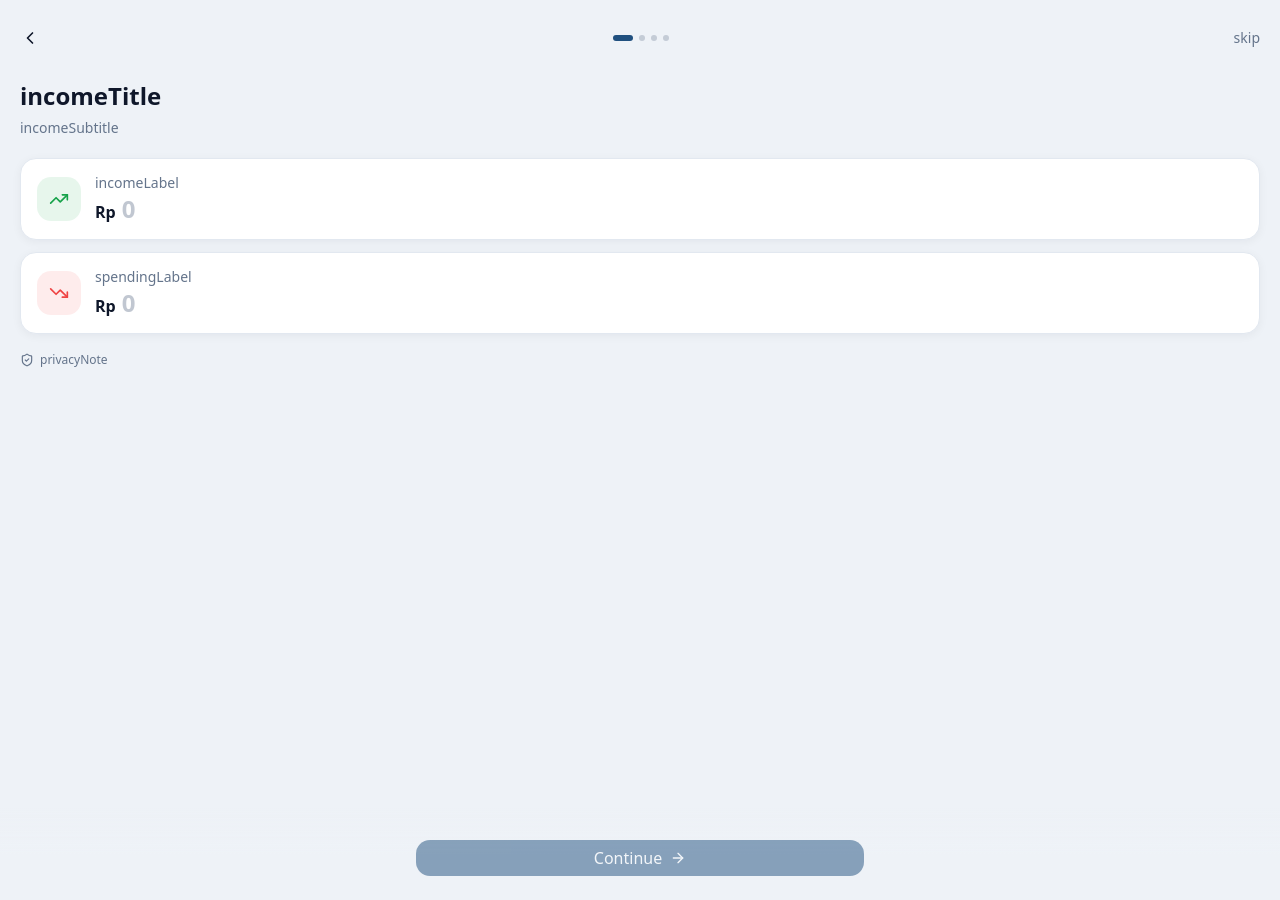
Scenario: HealthCheckPage (multi-step) › walks through all steps and renders the score gauge
Type "10000000" into the field with test id "hc-income" at [682, 209], box [122,193,1243,225]
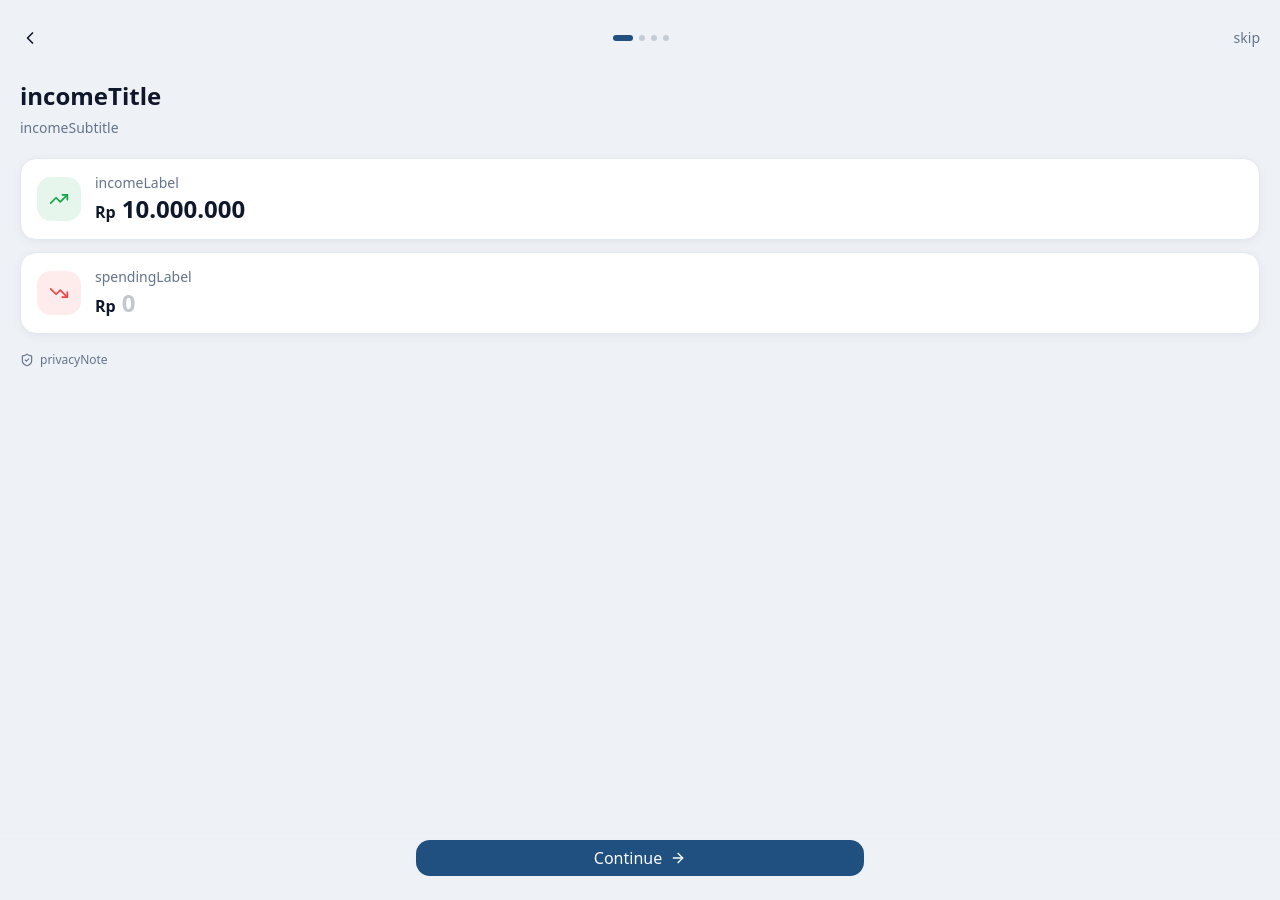
Type "6000000" into the field with test id "hc-spending" at [682, 303], box [122,287,1243,319]
Click the button "Continue" at [640, 858], box [416,840,864,876]
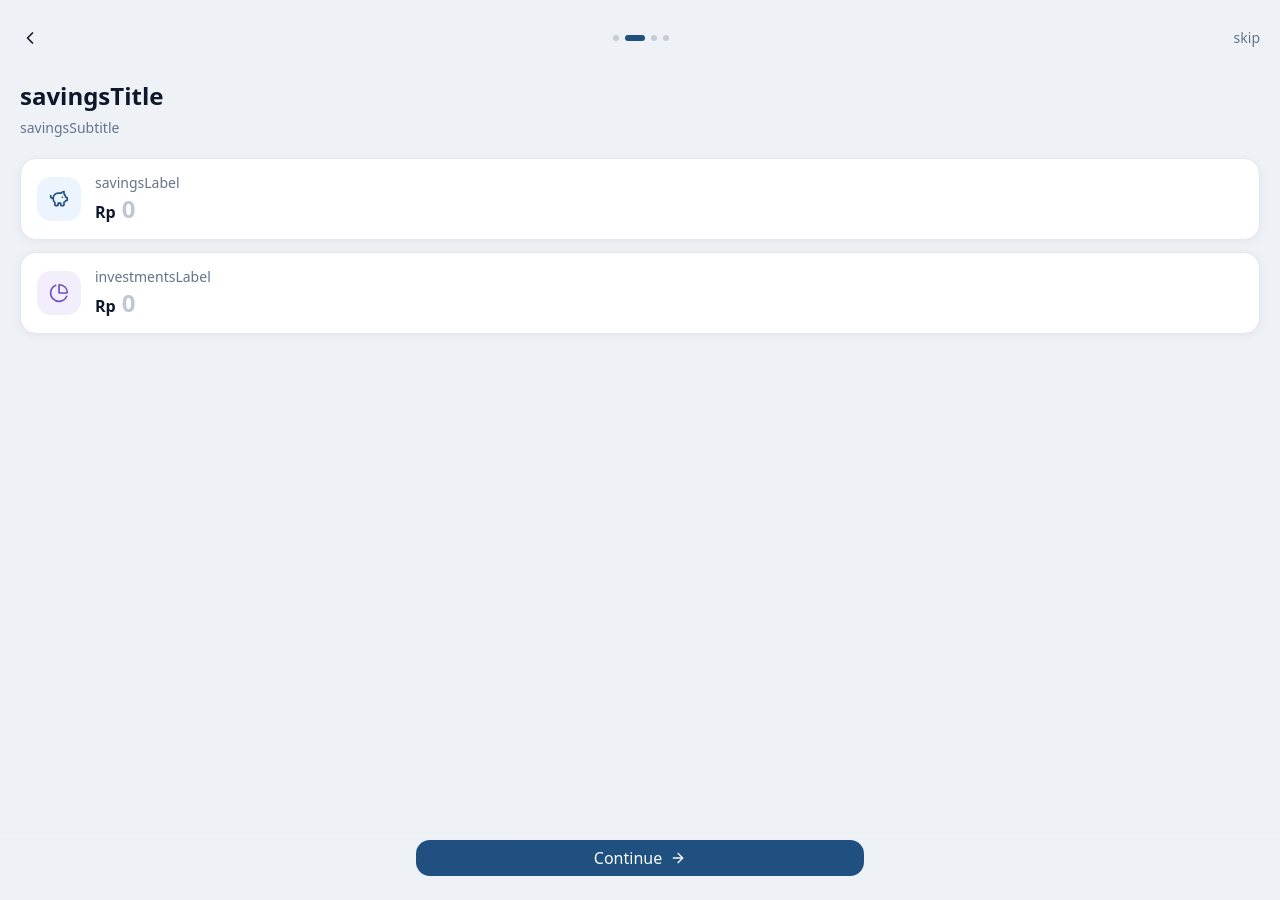
Type "30000000" into the field with test id "hc-savings" at [682, 209], box [122,193,1243,225]
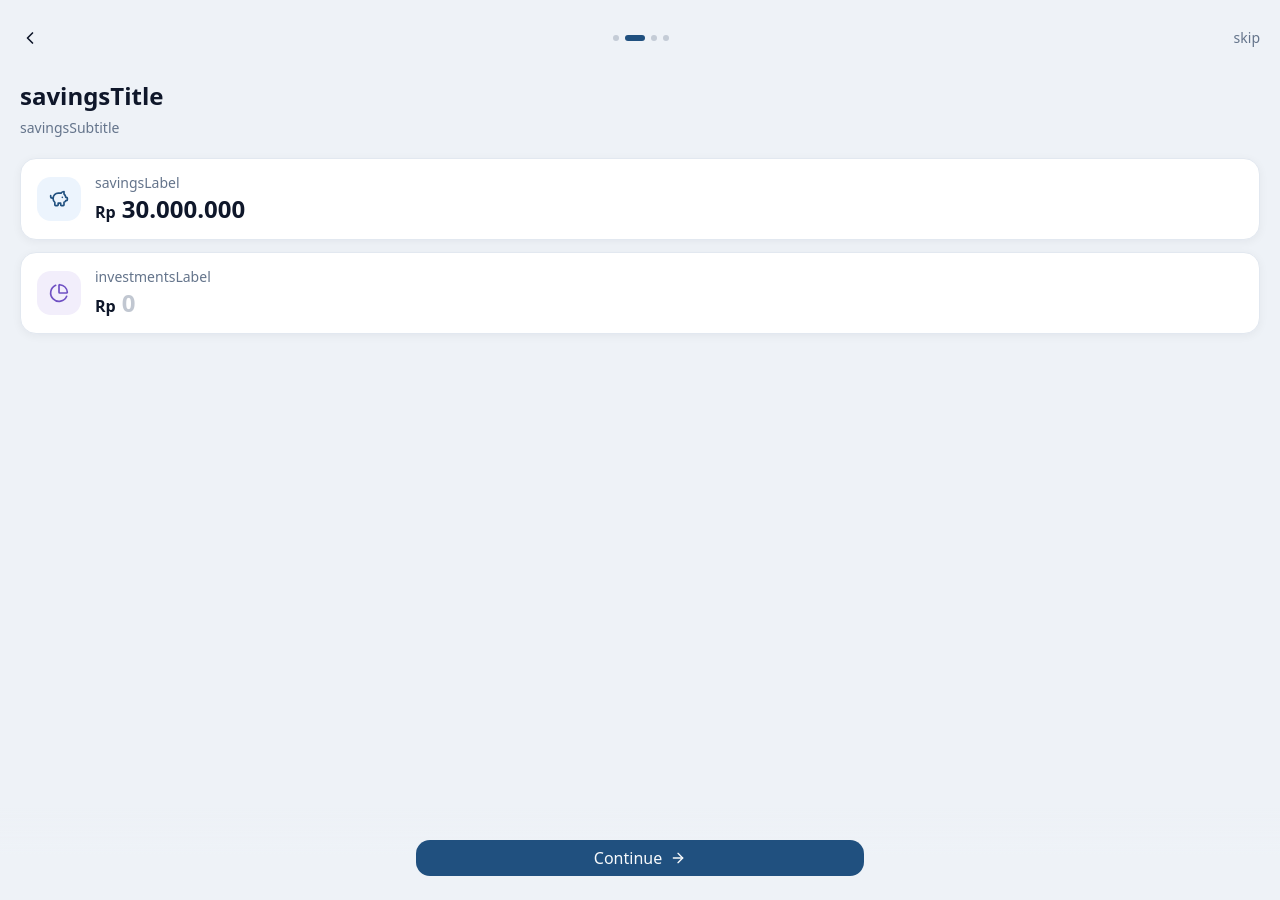
Type "20000000" into the field with test id "hc-investments" at [682, 303], box [122,287,1243,319]
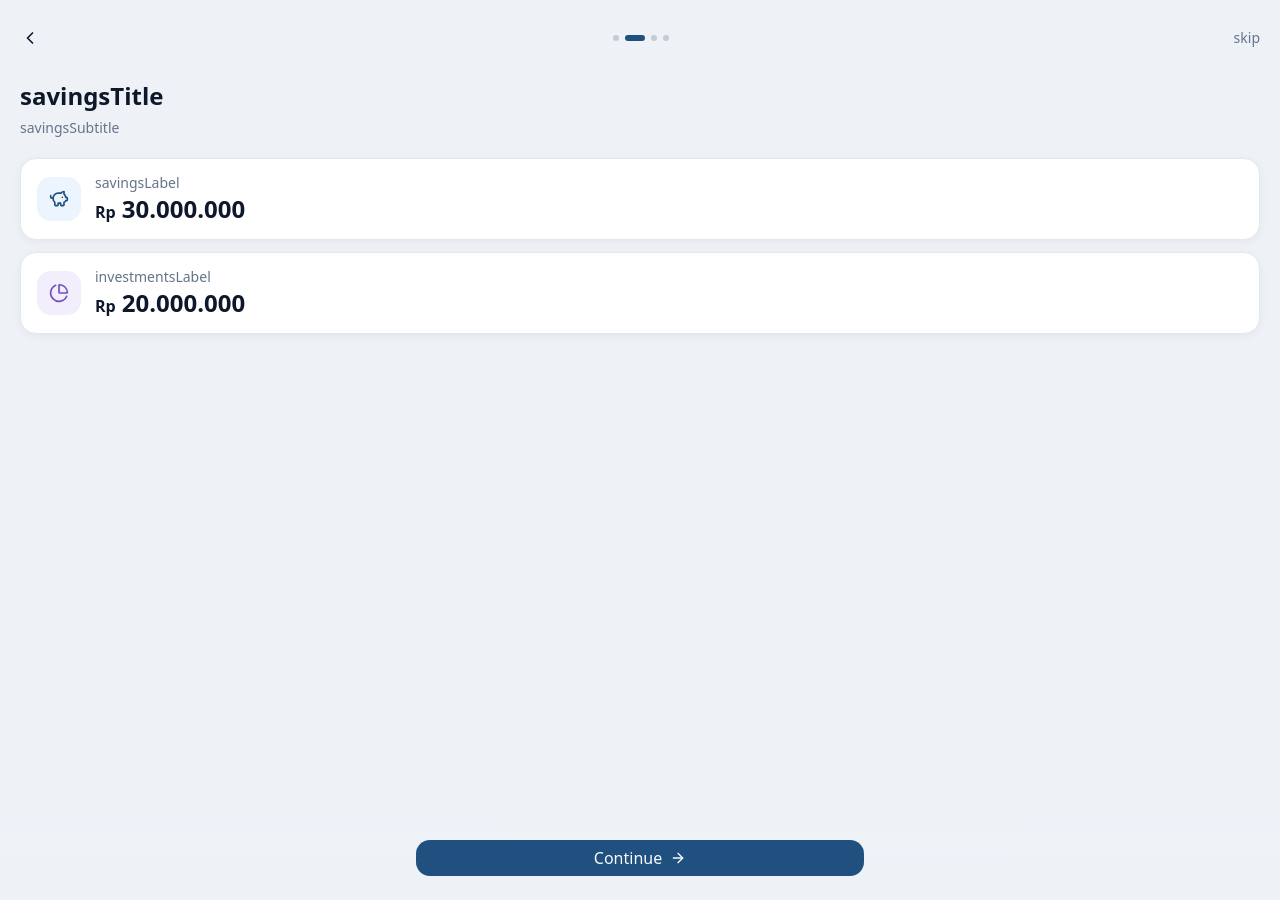
Click the button "Continue" at [640, 858], box [416,840,864,876]
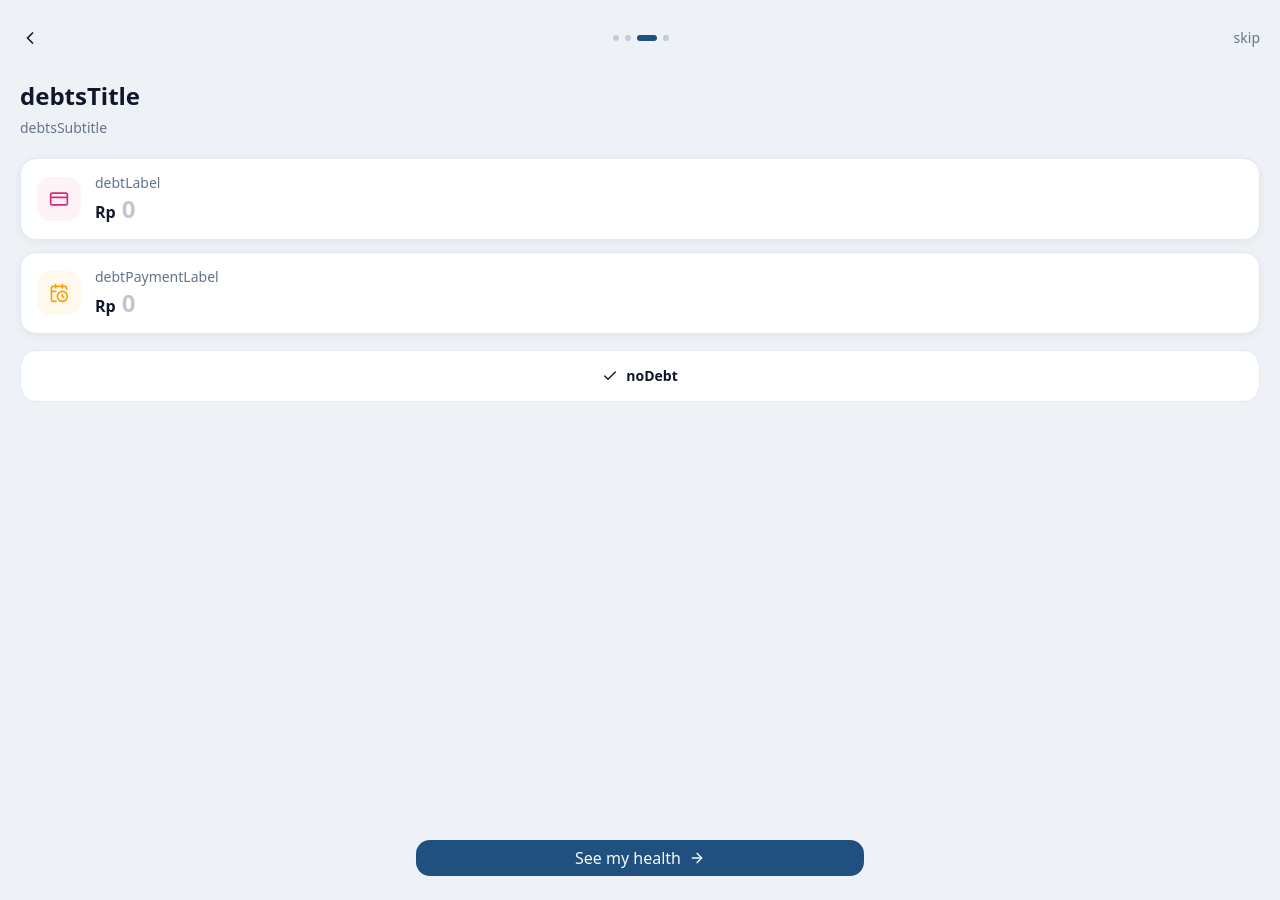
Click the button "See my health" at [640, 858], box [416,840,864,876]
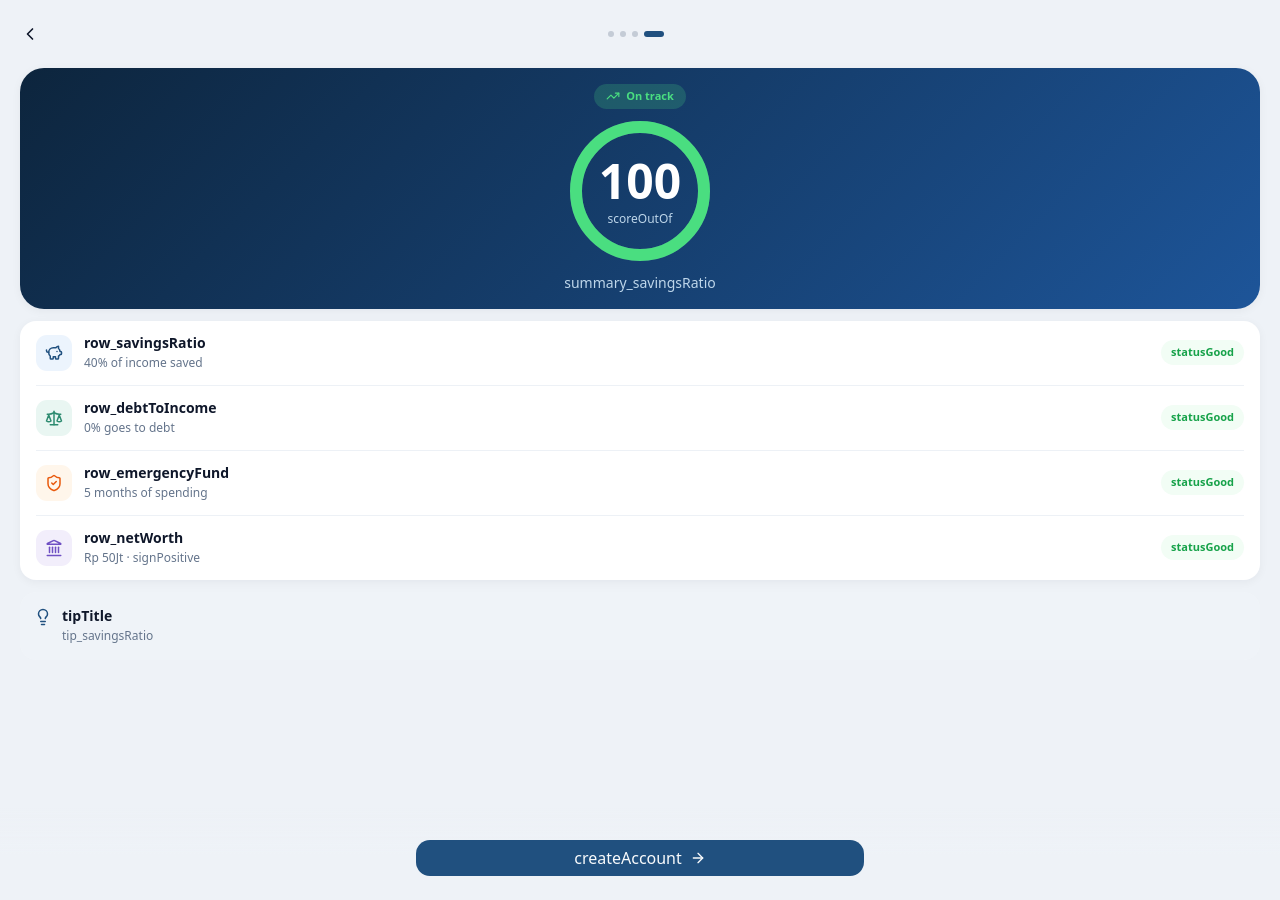
expect the text "100" is shown: met, box [599,152,681,208]
expect the text with test id "hc-score" reads "100": met, box [599,148,681,212]
expect the text "On track" is shown: met, box [594,84,686,108]
